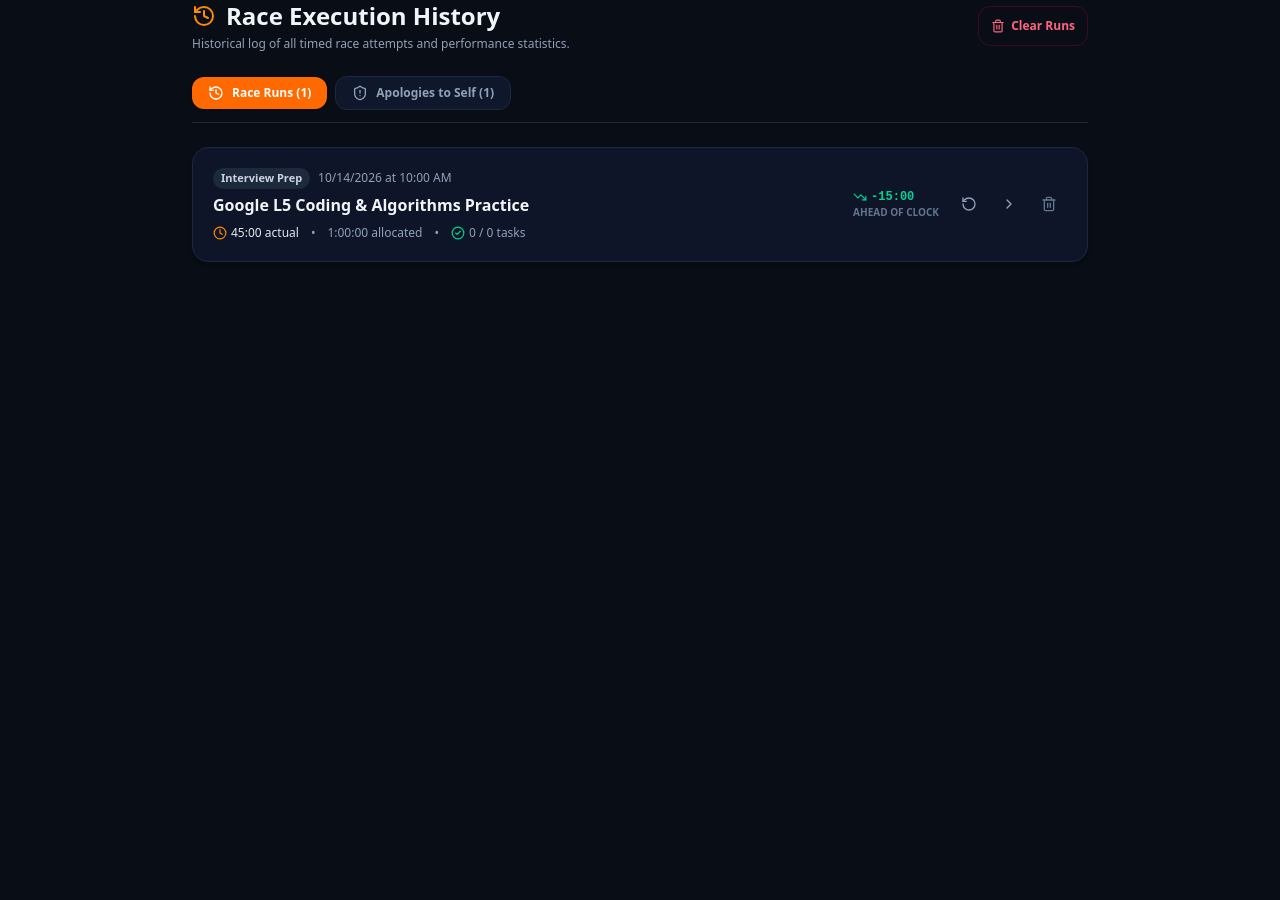
Test: RaceHistoryView › switches to Apologies to Self sub-tab and renders apologies log
Switch to apologies tab
Click the button "Apologies to Self (1)".
click(423, 93)  # box top-left (335, 76), bottom-right (511, 110)
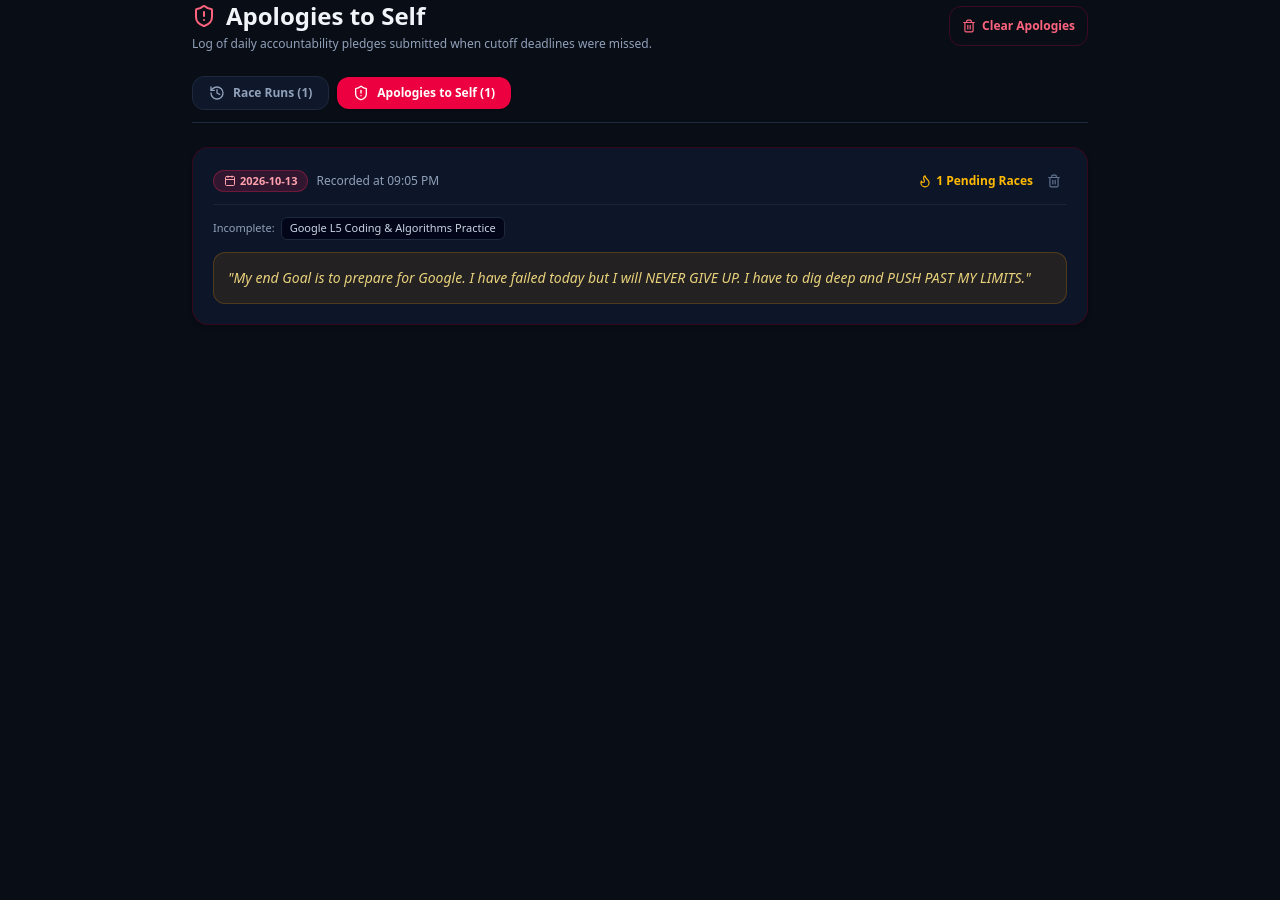
Expected: the heading "Apologies to Self" is shown, top-left (192, 0), bottom-right (425, 32)
Expected: the text "2026-10-13" is shown, top-left (240, 173), bottom-right (297, 189)
Expected: the text "1 Pending Races" is shown, top-left (936, 173), bottom-right (1033, 189)
Click the button "Clear Apologies".
click(1019, 26)  # box top-left (949, 6), bottom-right (1088, 46)
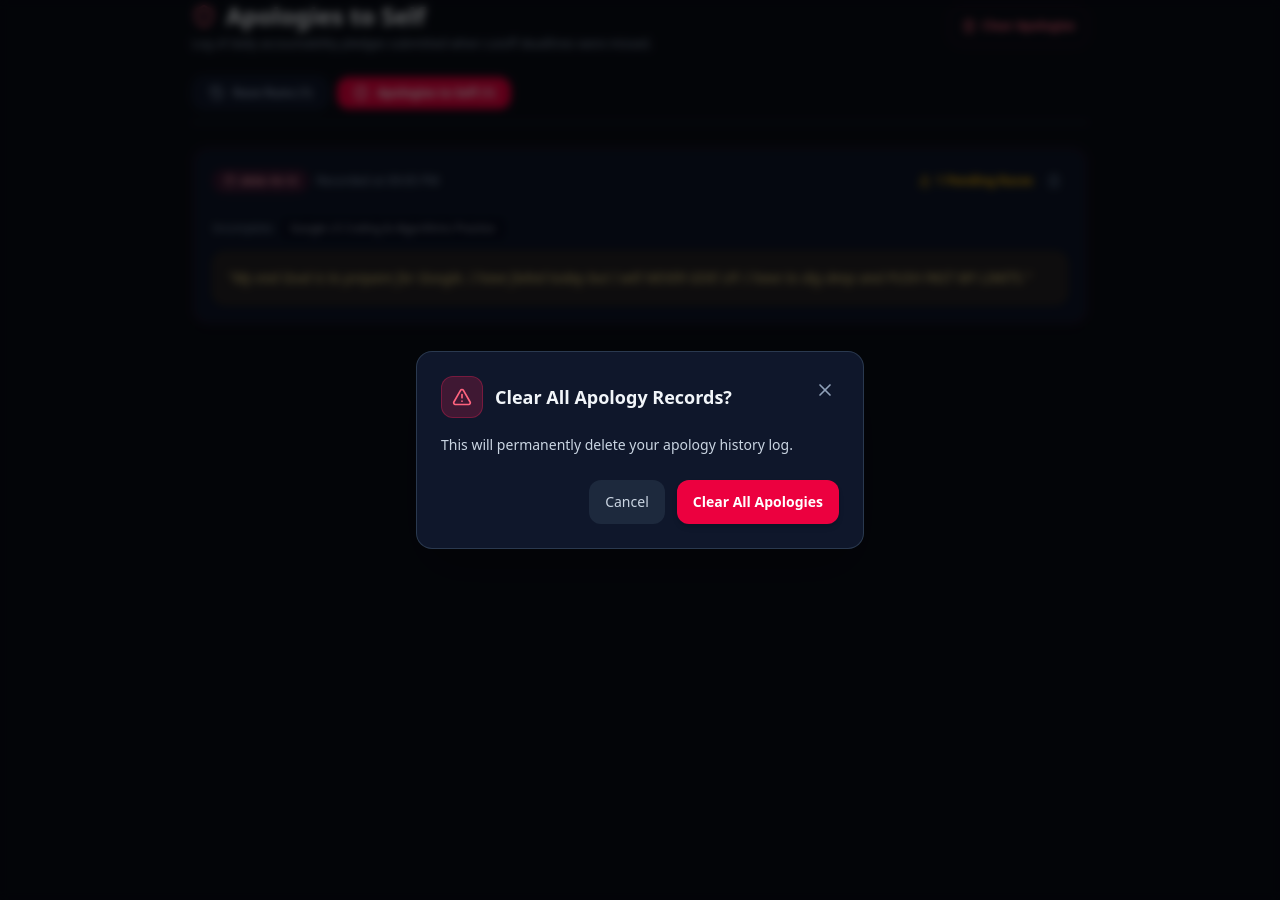
Expected: the heading "Clear All Apology Records?" is shown, top-left (495, 383), bottom-right (732, 411)
